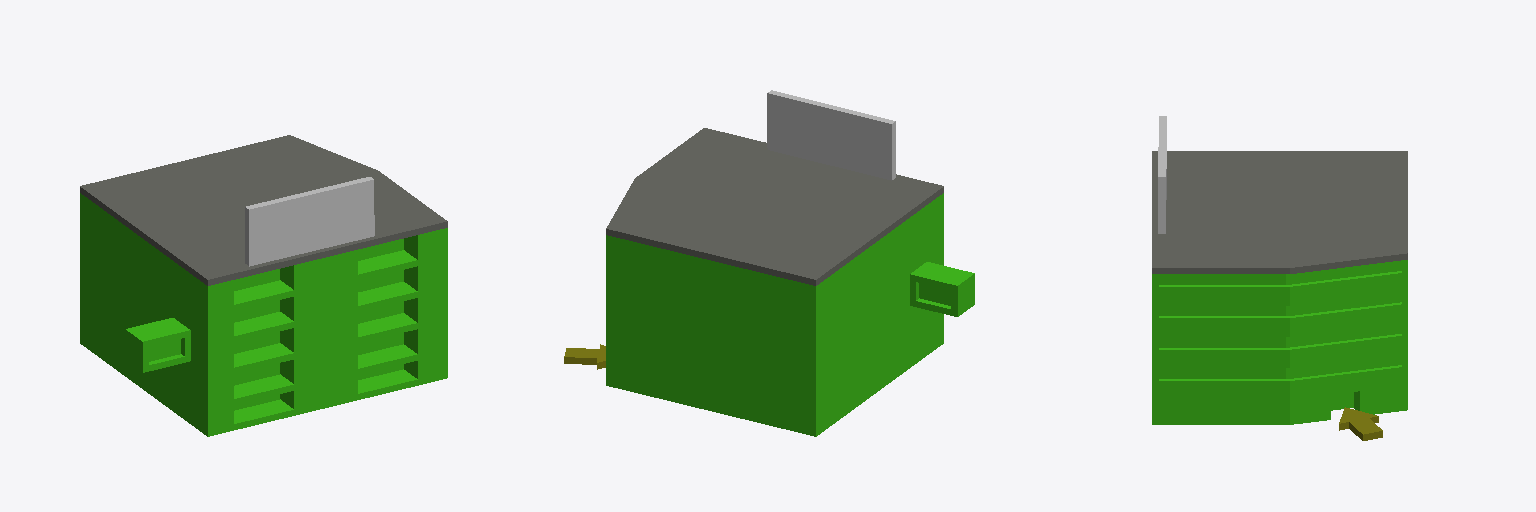
3 renders of one model, left to right at view 1: azimuth 30°, elevation 25°; view 2: azimuth 150°, elevation 25°; view 3: azimuth 270°, elevation 25°, orthographic.
Visible parts, largest first — view 1: lll2.002, Cube.005_Cube.001; view 2: lll2.002, Cube.005_Cube.001; view 3: lll2.002, Cube.005_Cube.001.
Part boxes in pixels (bbox=[...]): lll2.002: bbox=[80, 135, 447, 436]; Cube.005_Cube.001: bbox=[245, 177, 374, 266]; lll2.002: bbox=[564, 128, 974, 436]; Cube.005_Cube.001: bbox=[767, 90, 895, 180]; lll2.002: bbox=[1152, 151, 1407, 440]; Cube.005_Cube.001: bbox=[1158, 116, 1166, 233].
Bounding box in the file's own units: 53.4 × 34.15 × 37.